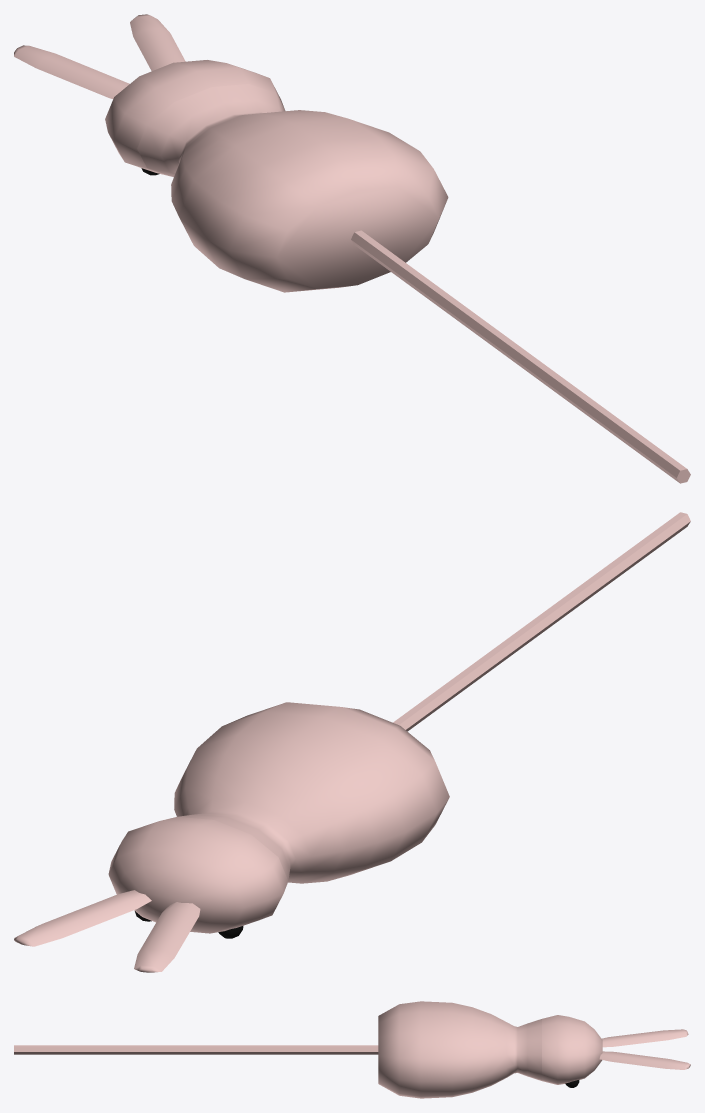
The model's file is easter_2023.glb.
3 renders of one model, top to bottom at view 1: azimuth 30°, elevation 25°; view 2: azimuth 150°, elevation 25°; view 3: azimuth 270°, elevation 25°, orthographic. The views are drawn at different scales.
Visible parts, largest first — view 1: 0.051; view 2: 0.051; view 3: 0.051.
Part boxes in pixels (bbox=[...]): 0.051: bbox=[14, 14, 690, 483]; 0.051: bbox=[14, 512, 690, 972]; 0.051: bbox=[14, 1001, 690, 1098].
Size of the model in its own units: 0.1044 by 0.0582 by 0.4713.
